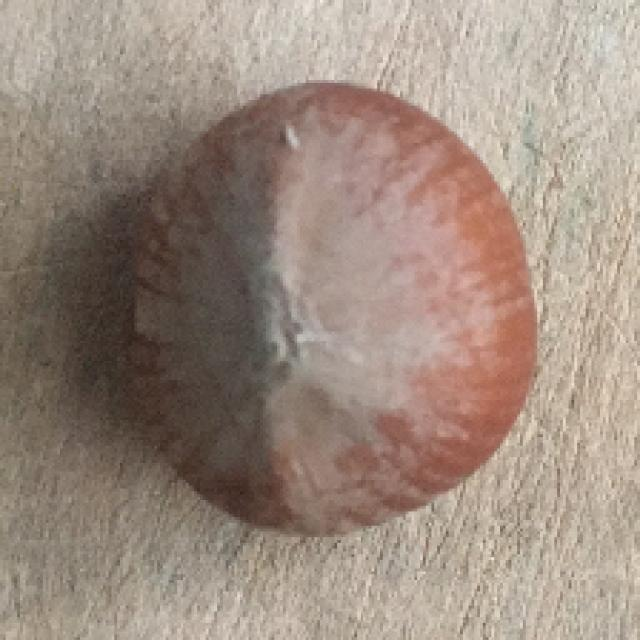QualityHazelnut: (122, 80, 545, 548)
